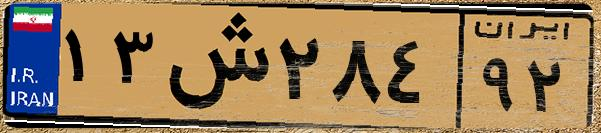1: (57, 26, 110, 100)
2: (270, 28, 330, 110), (525, 38, 570, 115)
3: (110, 28, 158, 98)
4: (385, 28, 445, 110)
8: (330, 28, 385, 110)
9: (475, 38, 525, 113)
ش: (158, 12, 270, 120)
